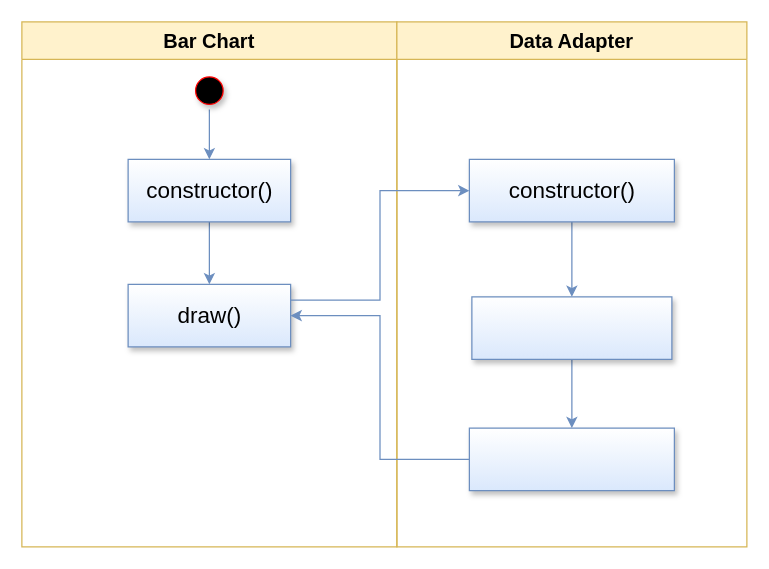
Some shapes in this 769 by 569 pixel diagram are drawn without their labels. The centre of each missing label's shape, as x and y in pixels:
"callback(data)" belongs at (x=572, y=460).
"process()" belongs at (x=572, y=329).
